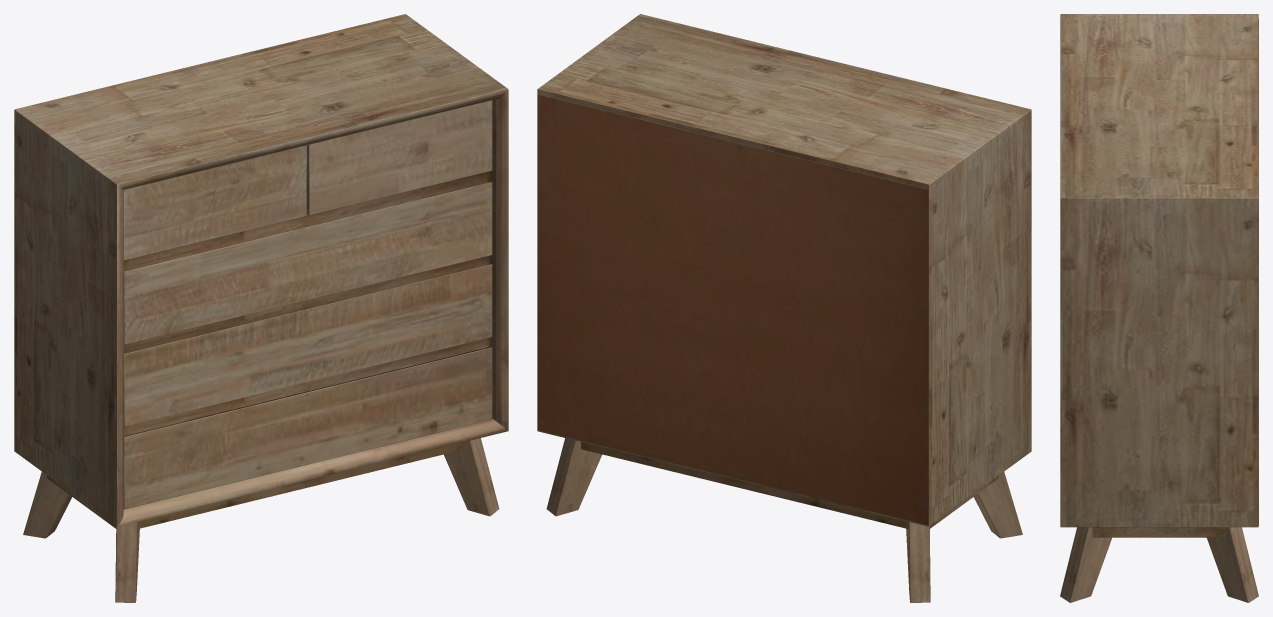
File: drawers.glb
3 views of the same model, side by side, from view 1: azimuth 30°, elevation 25°; view 2: azimuth 150°, elevation 25°; view 3: azimuth 270°, elevation 25° (orthographic). The views are drawn at different scales.
Visible parts, largest first — view 1: RootNode; view 2: RootNode; view 3: RootNode.
Part boxes in pixels (x1,y1,x2,y2): RootNode: [14, 14, 508, 602]; RootNode: [537, 14, 1031, 602]; RootNode: [1060, 14, 1258, 602].
Bounding box in the file's own units: 0.9978 × 1.03 × 0.4554.
Materials: 1 (1 with a texture image).
